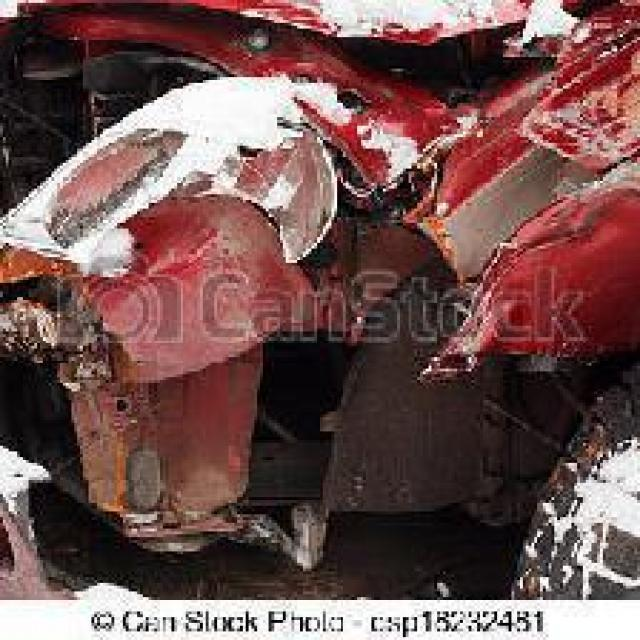damaged: (2, 6, 632, 540)
